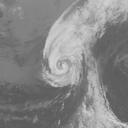cyclone: (41, 14, 94, 87)
